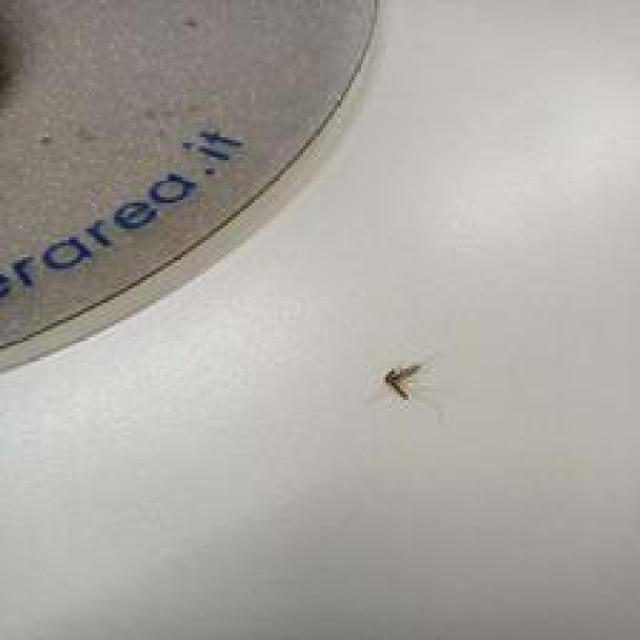Culex: (384, 362, 422, 402)
